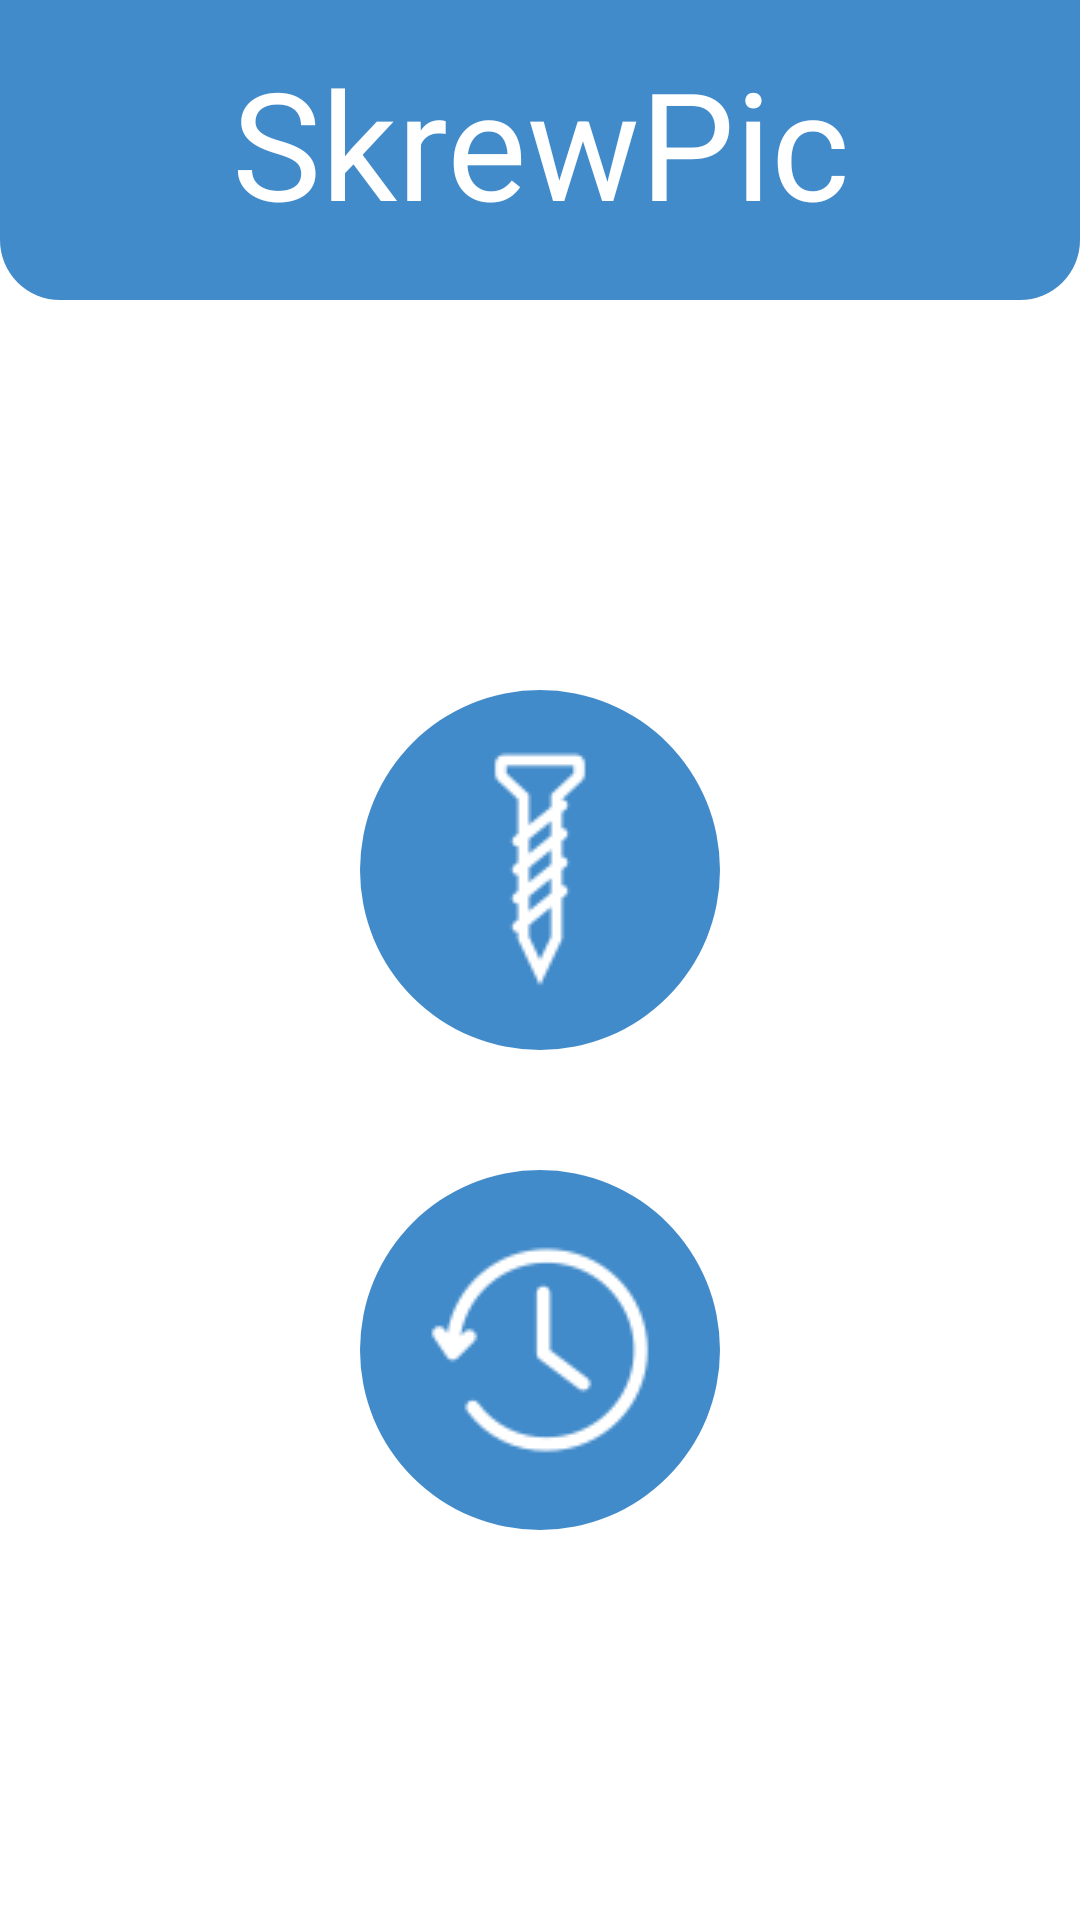

Icons on this 1080 x 1920 Android screen, each with its box as (x1, y1, x2, y2):
history: (360, 1170, 720, 1530)
screw: (360, 690, 720, 1050)
